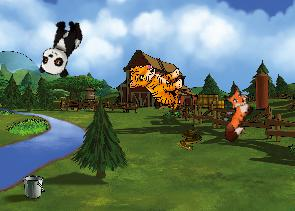fox: (205, 82, 261, 144)
panda: (36, 14, 86, 81)
tiger: (129, 63, 183, 108)
